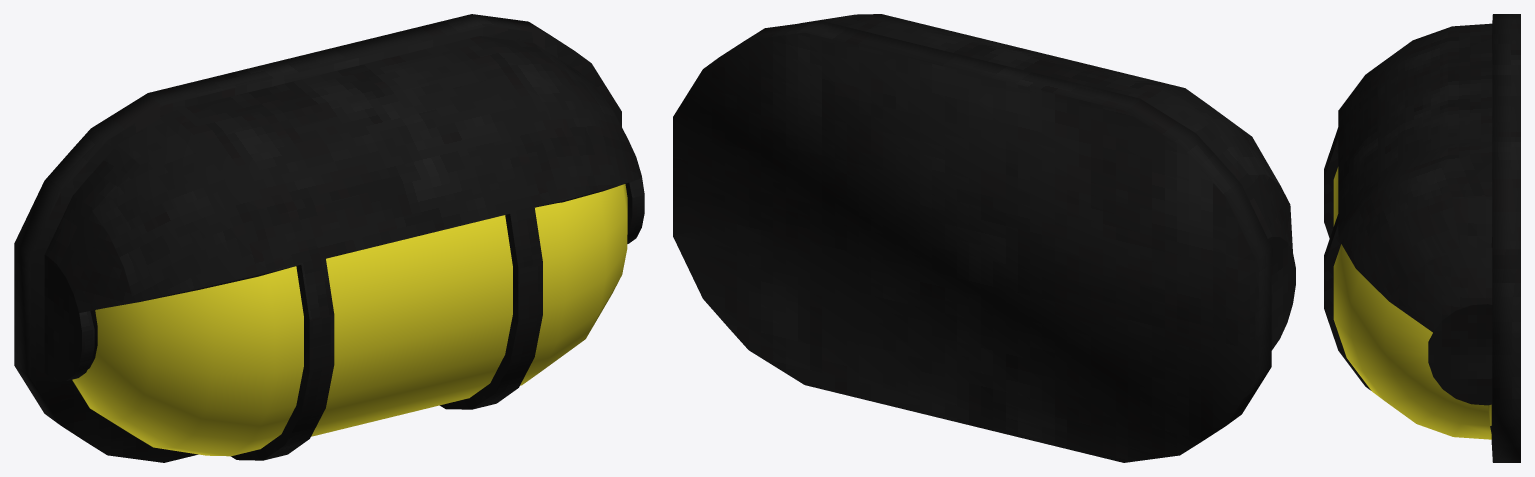
File: wall_light2.glb
The picture shows the model from 3 angles, left to right: view 1: azimuth 30°, elevation 25°; view 2: azimuth 150°, elevation 25°; view 3: azimuth 270°, elevation 25°; orthographic projection. The views are drawn at different scales.
Visible parts, largest first — view 1: Light2; view 2: Light2; view 3: Light2.
Part boxes in pixels (x1,y1,x2,y2): Light2: (14, 14, 644, 462); Light2: (673, 14, 1295, 462); Light2: (1324, 14, 1520, 462).
Size of the model in its own units: 0.2028 by 0.1173 by 0.0688.
2 materials, 1 textured.
